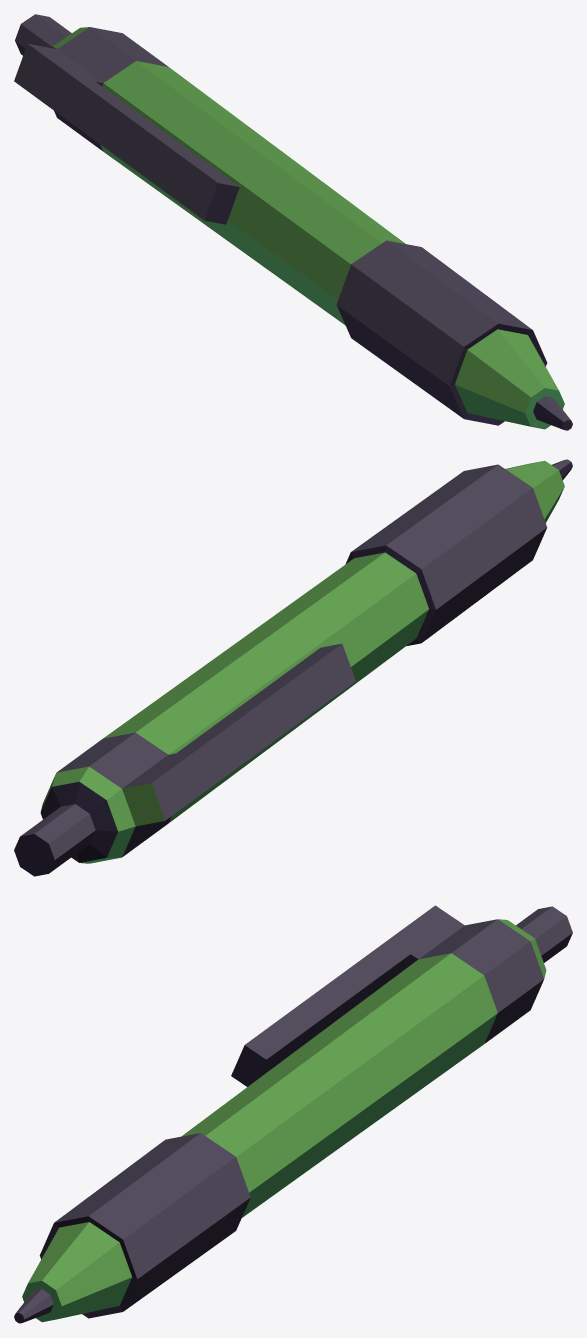
Rendered from Pulpen.fbx.
3 views of the same model, one above another, from view 1: azimuth 30°, elevation 25°; view 2: azimuth 150°, elevation 25°; view 3: azimuth 330°, elevation 25° (orthographic).
Parts seen in each view (by area): view 1: Cylinder.003; view 2: Cylinder.003; view 3: Cylinder.003.
Part boxes in pixels (<box>): Cylinder.003: <box>14,14,572,430</box>; Cylinder.003: <box>14,459,572,876</box>; Cylinder.003: <box>14,905,572,1323</box>.
Size of the model in its own units: 9.29 by 7.37 by 68.07.
